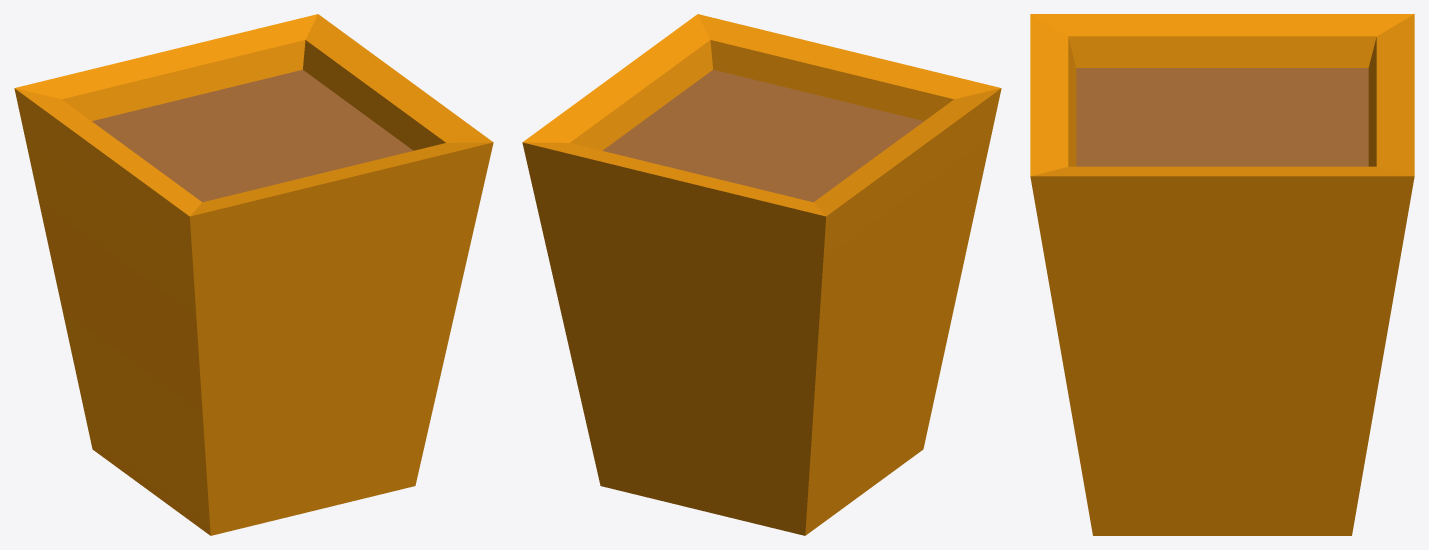
Rendered from PlantPot_4_A.glb.
3 renders of one model, left to right at view 1: azimuth 30°, elevation 25°; view 2: azimuth 150°, elevation 25°; view 3: azimuth 270°, elevation 25°, orthographic. The views are drawn at different scales.
Parts seen in each view (by area): view 1: PlantPot_4_A; view 2: PlantPot_4_A; view 3: PlantPot_4_A.
Part boxes in pixels (x1,y1,x2,y2): PlantPot_4_A: [14, 14, 493, 535]; PlantPot_4_A: [522, 14, 1001, 535]; PlantPot_4_A: [1030, 14, 1414, 535].
Bounding box in the file's own units: 0.2163 × 0.2398 × 0.2163.
Materials: 1 (1 with a texture image).
